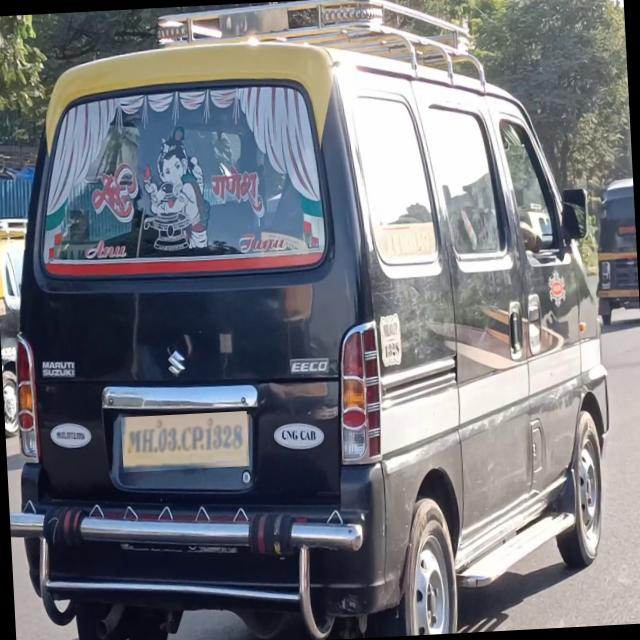Plate: (122, 412, 251, 474)
